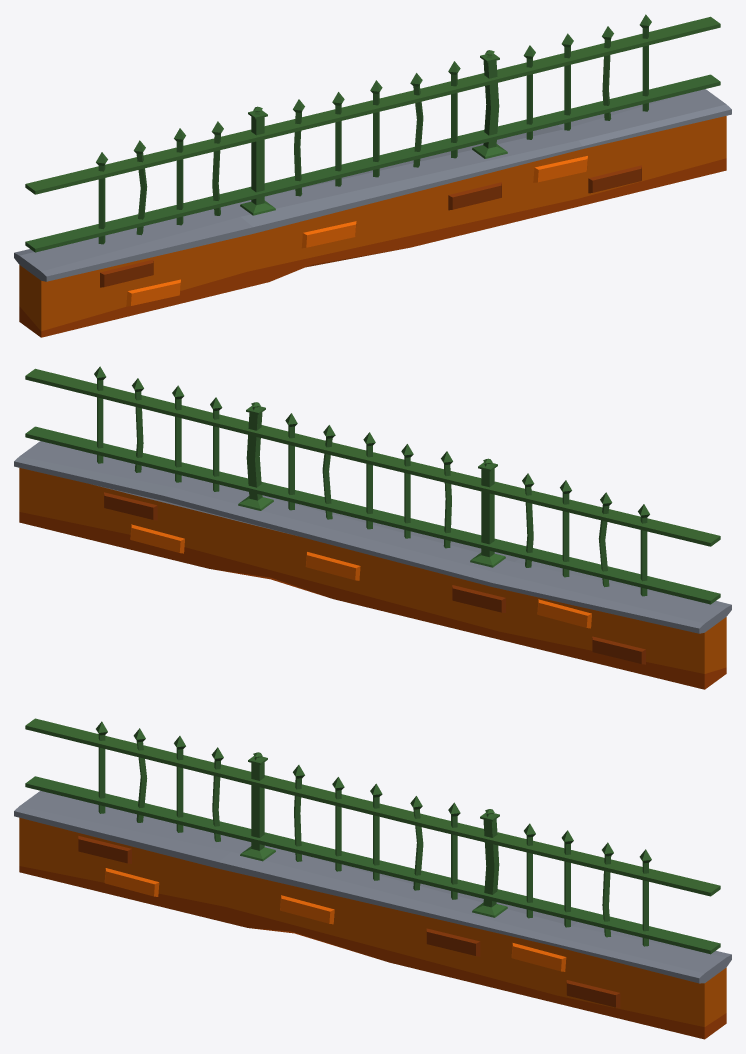
File: fence.fbx
3 views of the same model, one above another, from view 1: azimuth 30°, elevation 25°; view 2: azimuth 150°, elevation 25°; view 3: azimuth 330°, elevation 25° (orthographic).
Visible parts, largest first — view 1: SM_Env_Fence_01 (19); view 2: SM_Env_Fence_01 (19); view 3: SM_Env_Fence_01 (19).
Part boxes in pixels (x1,y1,x2,y2): SM_Env_Fence_01 (19): (14,14,731,337); SM_Env_Fence_01 (19): (14,366,731,689); SM_Env_Fence_01 (19): (14,718,731,1039).
Size of the model in its own units: 5000 by 1164 by 445.
Materials: 1 (1 with a texture image).
